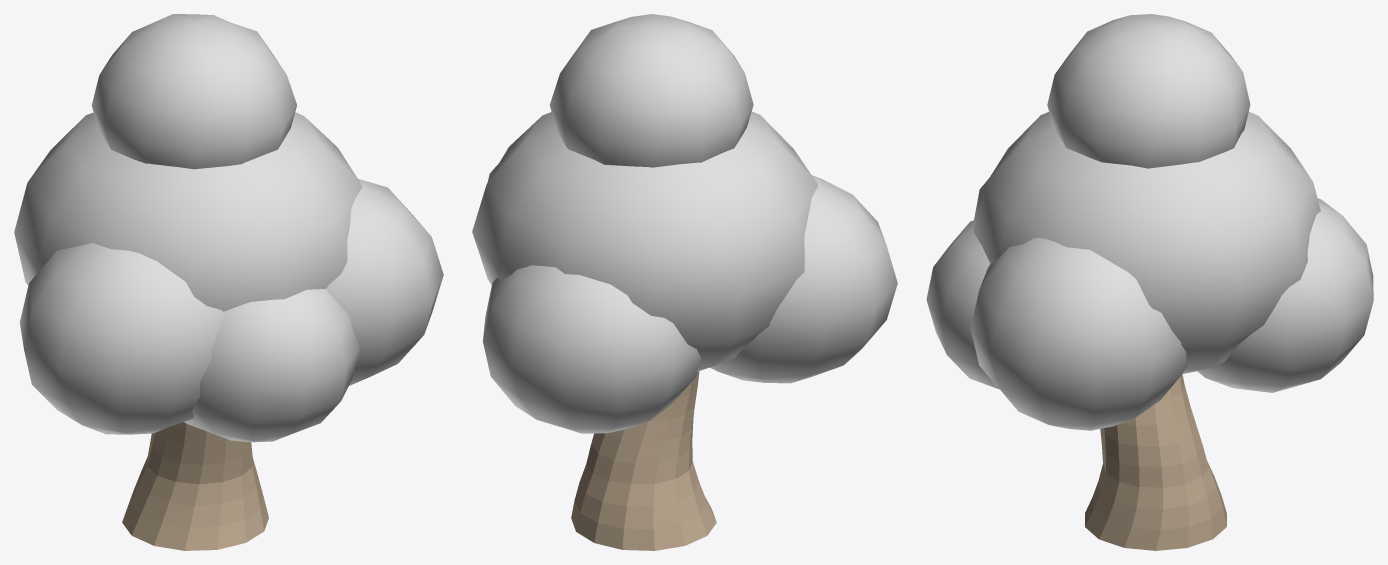
The model's file is Oak_Tree.glb.
The picture shows the model from 3 angles, left to right: view 1: azimuth 30°, elevation 25°; view 2: azimuth 150°, elevation 25°; view 3: azimuth 270°, elevation 25°; orthographic projection.
Visible parts, largest first — view 1: Oak_Tree_Crown, Oak_Tree_Trunk; view 2: Oak_Tree_Crown, Oak_Tree_Trunk; view 3: Oak_Tree_Crown, Oak_Tree_Trunk.
Boxes of the visible parts, x1,y1,x2,y2 form: Oak_Tree_Crown: (14, 14, 443, 442); Oak_Tree_Trunk: (122, 422, 268, 550); Oak_Tree_Crown: (472, 14, 897, 433); Oak_Tree_Trunk: (571, 371, 716, 550); Oak_Tree_Crown: (926, 14, 1373, 430); Oak_Tree_Trunk: (1085, 374, 1226, 550).
Size of the model in its own units: 0.8269 by 1 by 0.8211.
